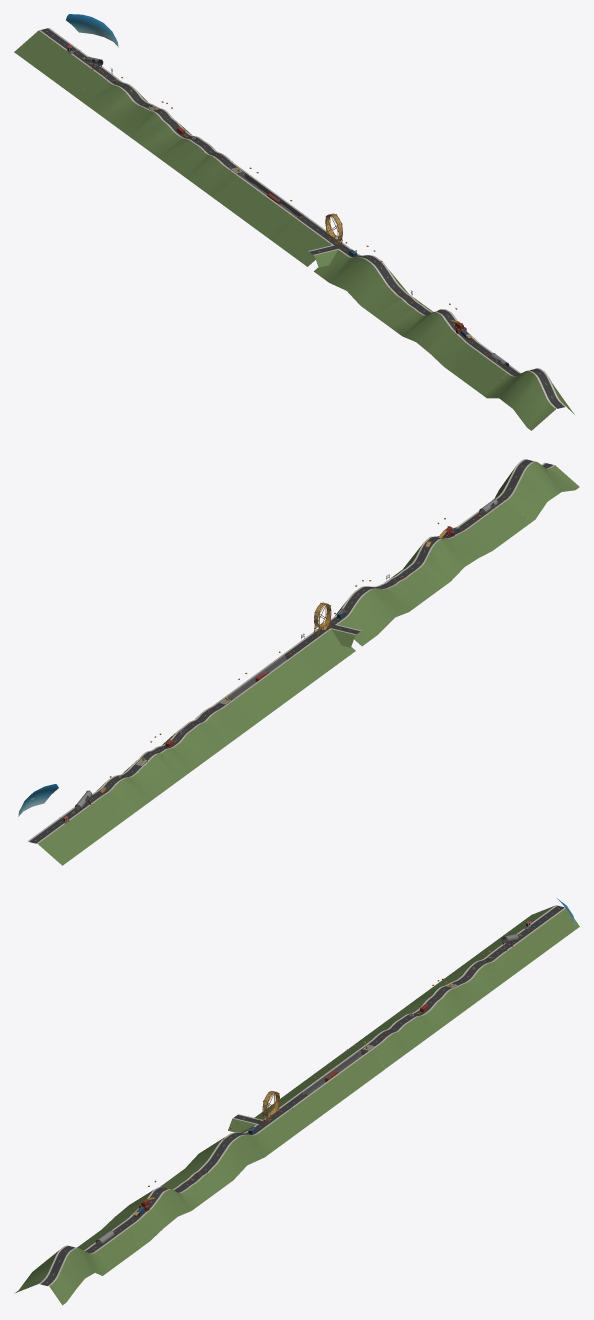
The model's file is level_event_7.glb.
The picture shows the model from 3 angles, top to bottom: view 1: azimuth 30°, elevation 25°; view 2: azimuth 150°, elevation 25°; view 3: azimuth 330°, elevation 25°; orthographic projection.
Parts seen in each view (by area): view 1: road_normal_13, road_easy_11, road_mountain_angle_55, road_razlom_middle, road_easy_00_small_1, road_easy_00_small_1 (2), road_easy_00_small_1 (1), road_easy_00_small_1 (3), road_corner_1, SkyDome; view 2: road_normal_13, road_easy_11, road_mountain_angle_55, road_razlom_middle, road_easy_00_small_1 (2), road_easy_00_small_1, road_easy_00_small_1 (1), road_easy_00_small_1 (3), road_corner_1; view 3: road_normal_13, road_easy_11, road_mountain_angle_55, road_razlom_middle, road_easy_00_small_1, road_easy_00_small_1 (1), road_easy_00_small_1 (2), road_easy_00_small_1 (3), road_corner_1.
Boxes of the visible parts, bbox=[...] form: road_normal_13: bbox=[318, 252, 487, 372]; road_easy_11: bbox=[75, 72, 243, 194]; road_mountain_angle_55: bbox=[483, 368, 574, 430]; road_razlom_middle: bbox=[213, 173, 302, 237]; road_easy_00_small_1: bbox=[14, 28, 79, 73]; road_easy_00_small_1 (2): bbox=[273, 217, 337, 263]; road_easy_00_small_1 (1): bbox=[44, 50, 109, 96]; road_easy_00_small_1 (3): bbox=[453, 348, 517, 394]; road_corner_1: bbox=[303, 240, 351, 274]; SkyDome: bbox=[66, 14, 118, 47]; road_normal_13: bbox=[332, 520, 500, 642]; road_easy_11: bbox=[90, 699, 256, 821]; road_mountain_angle_55: bbox=[494, 459, 579, 522]; road_razlom_middle: bbox=[227, 655, 315, 720]; road_easy_00_small_1 (2): bbox=[286, 630, 350, 676]; road_easy_00_small_1: bbox=[27, 819, 92, 865]; road_easy_00_small_1 (1): bbox=[58, 798, 122, 843]; road_easy_00_small_1 (3): bbox=[466, 498, 530, 544]; road_corner_1: bbox=[316, 618, 366, 654]; road_normal_13: bbox=[94, 1129, 275, 1247]; road_easy_11: bbox=[338, 949, 518, 1068]; road_mountain_angle_55: bbox=[14, 1245, 110, 1305]; road_razlom_middle: bbox=[280, 1051, 380, 1112]; road_easy_00_small_1: bbox=[502, 905, 579, 948]; road_easy_00_small_1 (1): bbox=[471, 928, 549, 970]; road_easy_00_small_1 (2): bbox=[254, 1094, 320, 1137]; road_easy_00_small_1 (3): bbox=[77, 1226, 141, 1269]; road_corner_1: bbox=[228, 1114, 290, 1149].
Bounding box in the file's own units: 58.1 × 37.51 × 753.
3 materials, 3 textured.
